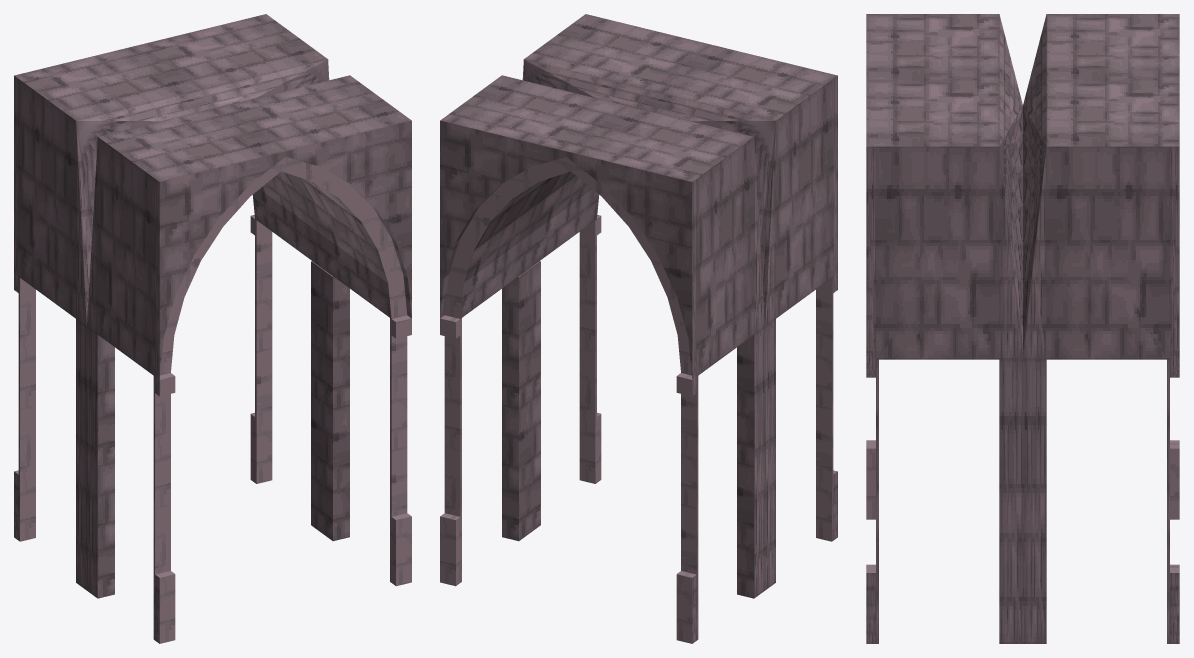
Rendered from door_frame_locked_c.glb.
3 renders of one model, left to right at view 1: azimuth 30°, elevation 25°; view 2: azimuth 150°, elevation 25°; view 3: azimuth 270°, elevation 25°, orthographic. The views are drawn at different scales.
Visible parts, largest first — view 1: portal_front, portal_back; view 2: portal_back, portal_front; view 3: portal_back, portal_front.
Part boxes in pixels (x1,y1,x2,y2): portal_front: (87, 75, 411, 643); portal_back: (14, 14, 329, 590); portal_back: (440, 75, 764, 643); portal_front: (522, 14, 837, 590); portal_back: (1023, 14, 1179, 643); portal_front: (866, 14, 1022, 643).
Bounding box in the file's own units: 2 × 3.5 × 2.
1 material, 1 textured.
